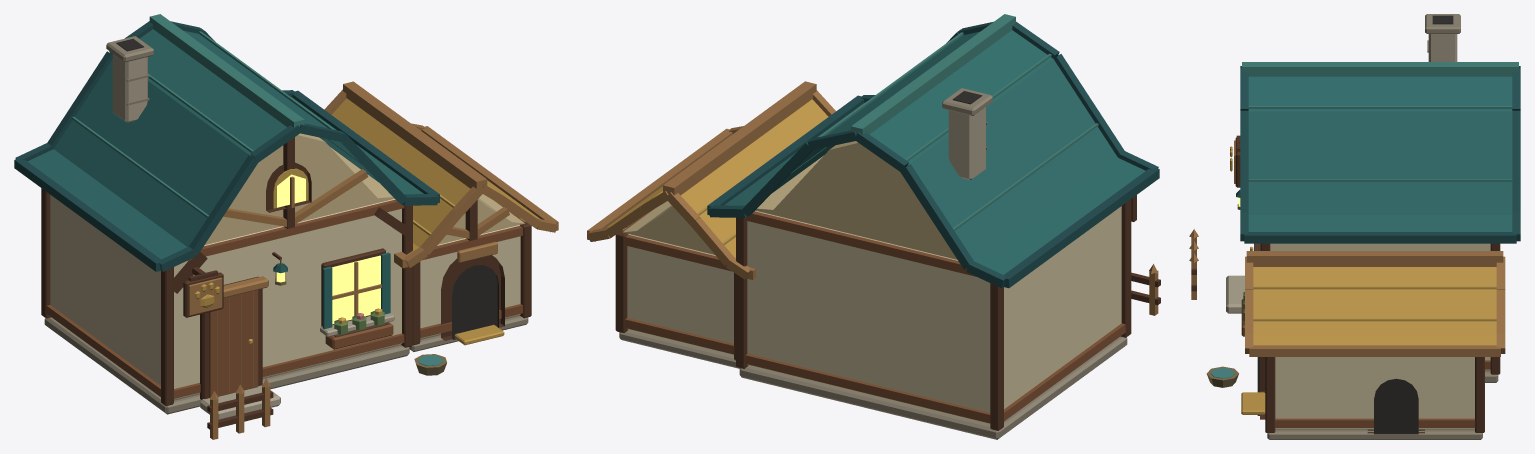
File: kennel.glb
3 renders of one model, left to right at view 1: azimuth 30°, elevation 25°; view 2: azimuth 150°, elevation 25°; view 3: azimuth 270°, elevation 25°, orthographic. The views are drawn at different scales.
Parts seen in each view (by area): view 1: kennel; view 2: kennel; view 3: kennel.
Boxes of the visible parts, <box> form: kennel: <box>14,14,558,439</box>; kennel: <box>587,14,1160,439</box>; kennel: <box>1189,14,1520,439</box>.
Bounding box in the file's own units: 9.06 × 6.17 × 6.69.
